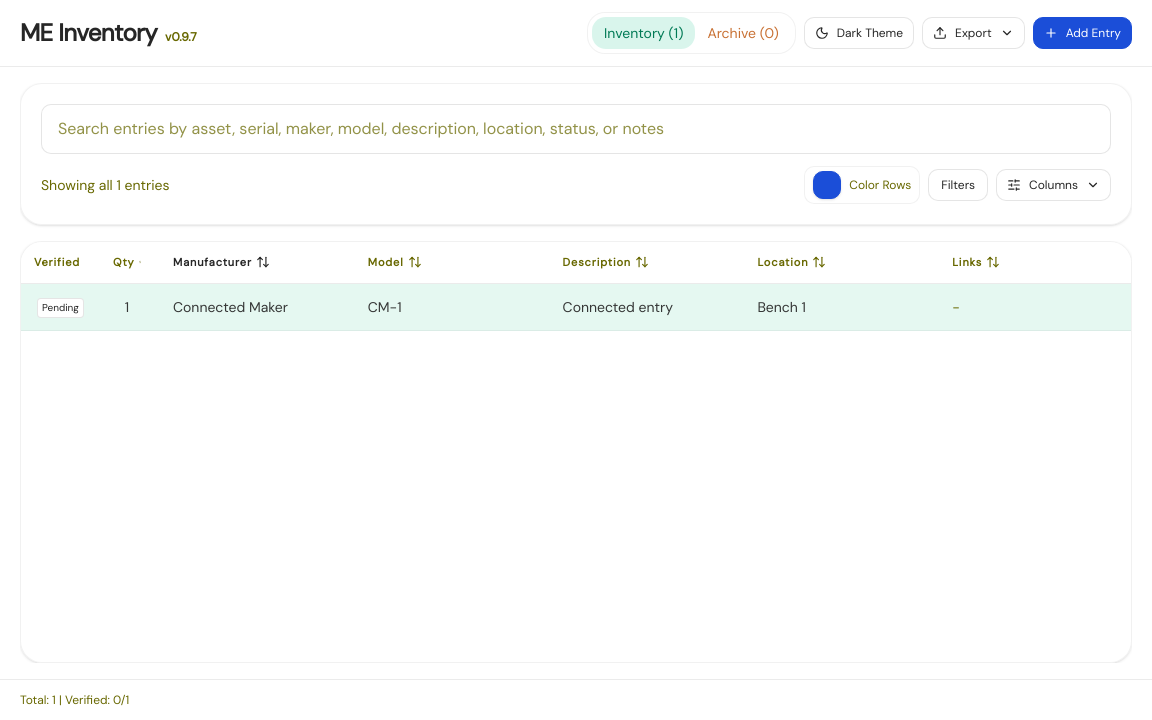
Test case: InventoryShell shell › uses the mutation result message when shared status changes during a save
The image size is (1152, 720).
Expected: the text "Connected Maker" is shown, x1=173 y1=298 x2=288 y2=316
Click the button "Add Entry". click: (1082,33)
box: x1=1033 y1=17 x2=1132 y2=49
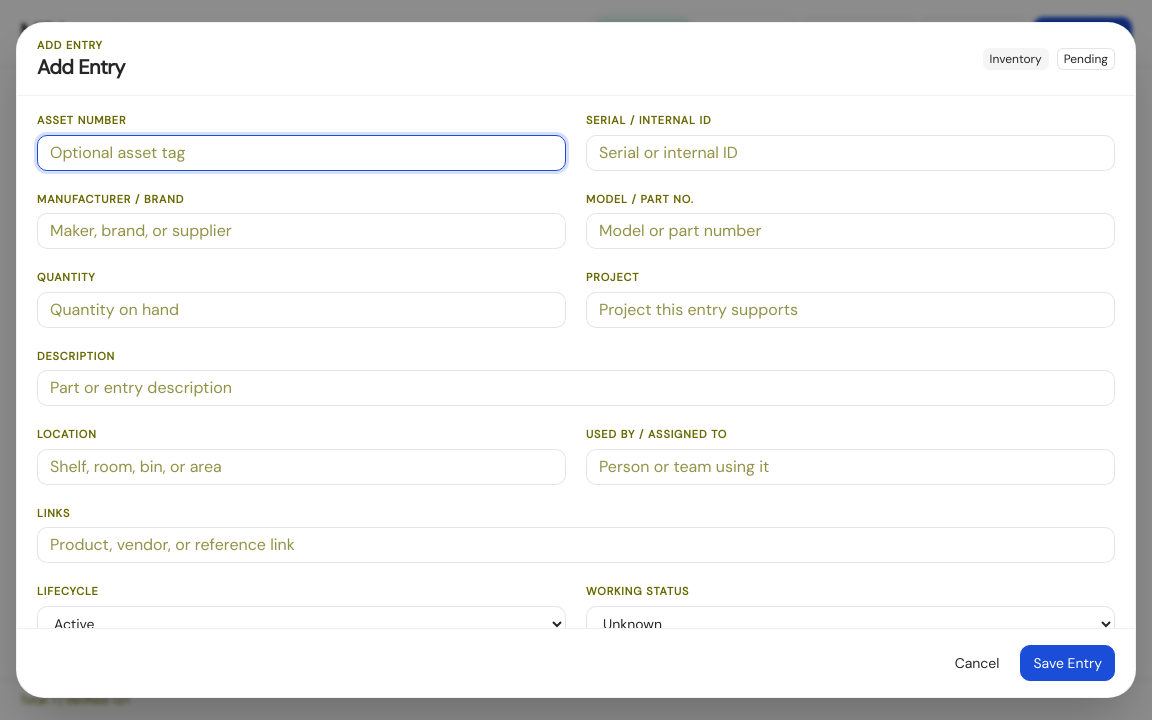
Type "Local Maker" into the field labelled "Manufacturer / Brand". click: (302,231)
box: x1=38 y1=214 x2=565 y2=248
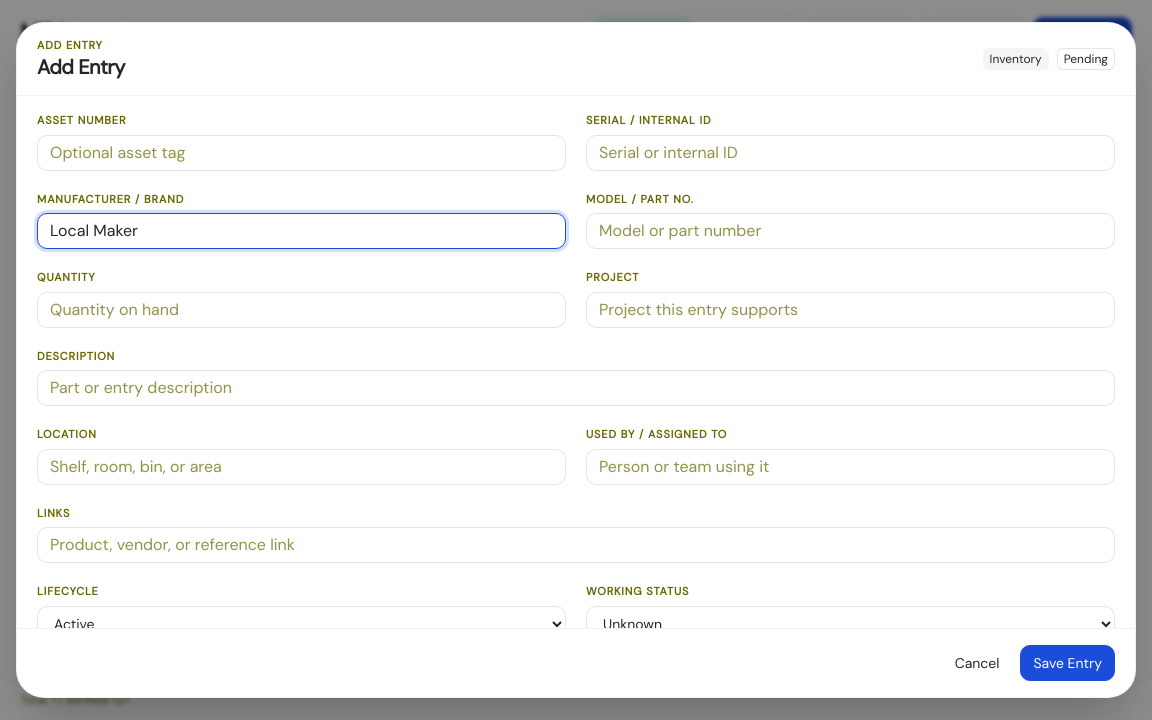
Type "Saved while shared vanished" into the field labelled "Description". click: (576,388)
box: x1=38 y1=371 x2=1114 y2=405
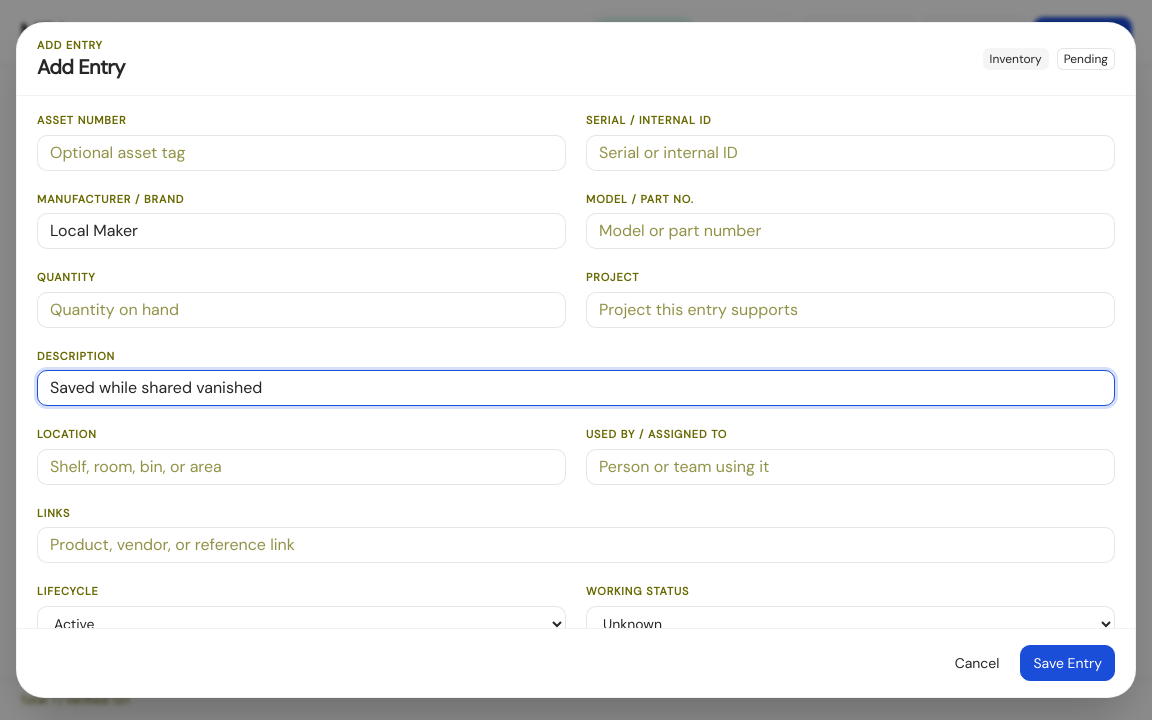
Click the button "Save Entry". click: (1068,663)
box: x1=1020 y1=645 x2=1115 y2=681
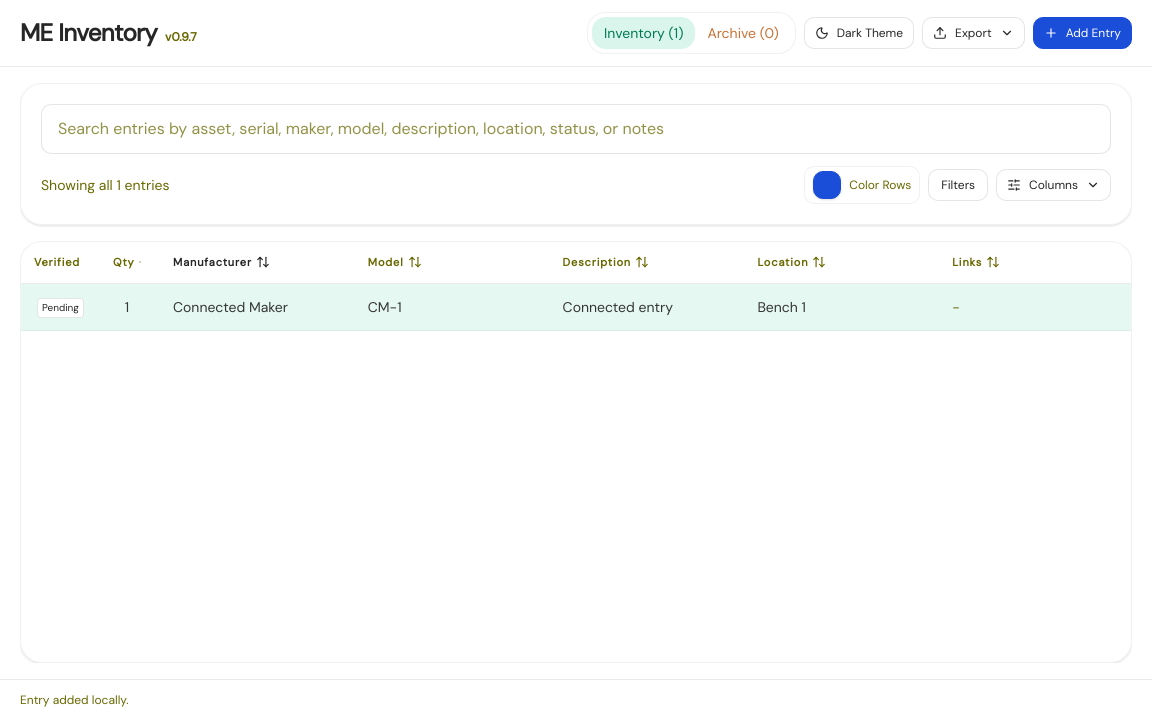
Now the text "Entry added locally." is shown, box x1=0 y1=679 x2=1151 y2=719
